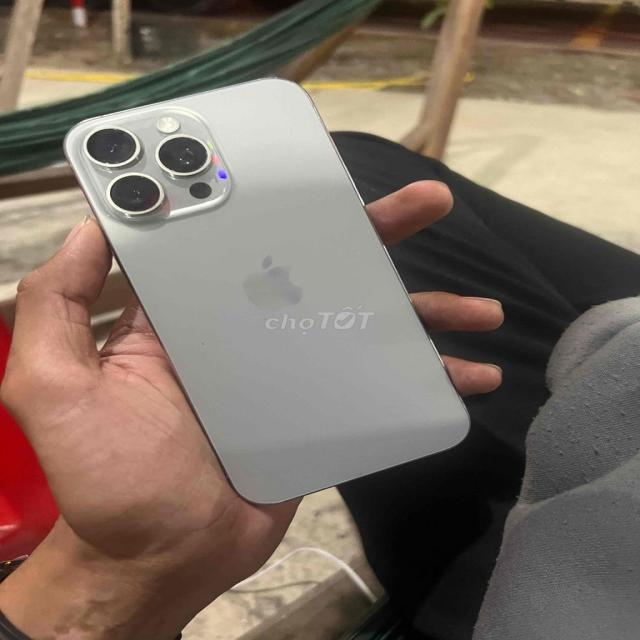gen_15: (60, 83, 493, 496)
